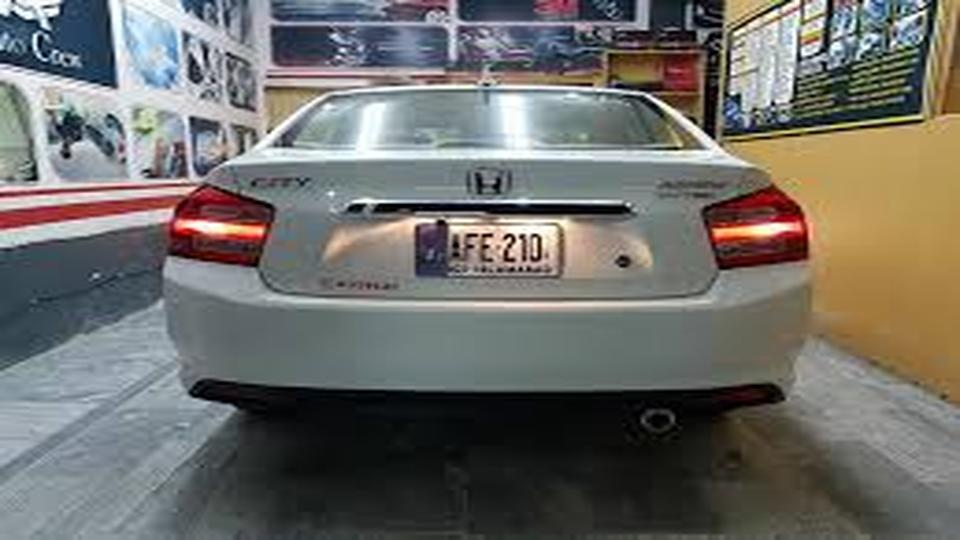NumberPlate: (418, 222, 573, 277)
